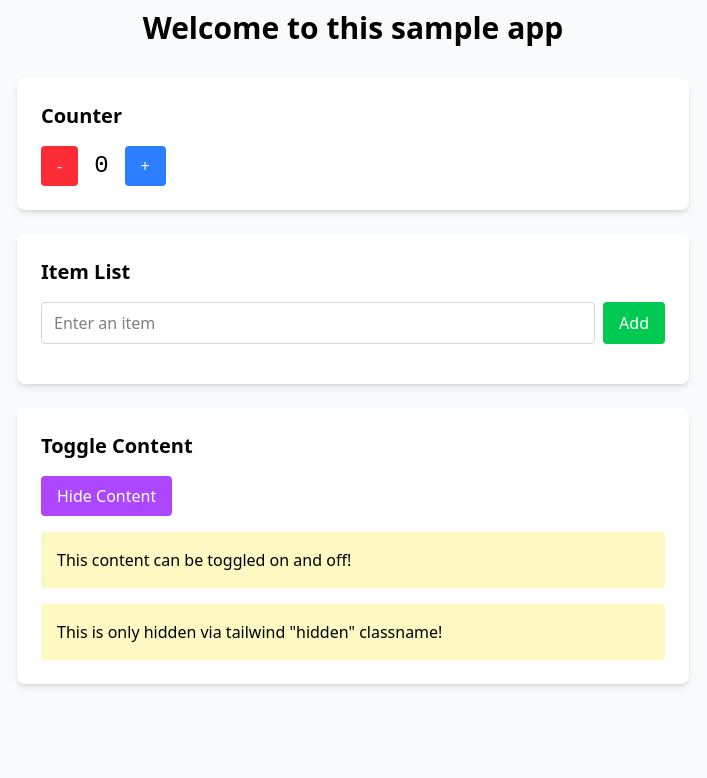
Test: Main app page (vitest) › lists › can interact with the lists
In the field with placeholder "Enter an item": (318, 323) [41, 302, 595, 344], type "cat"
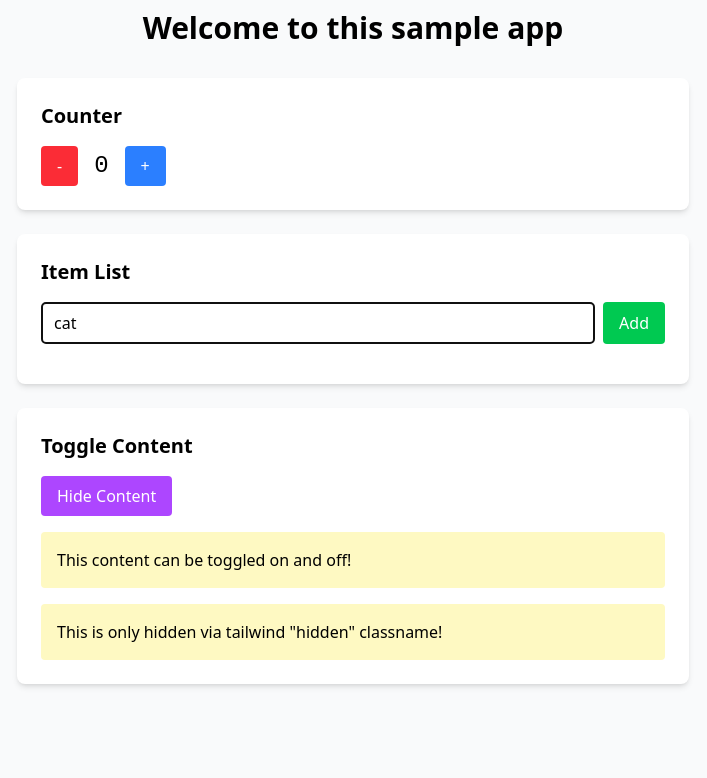
Click the button "Add": click(634, 323) [603, 302, 665, 344]
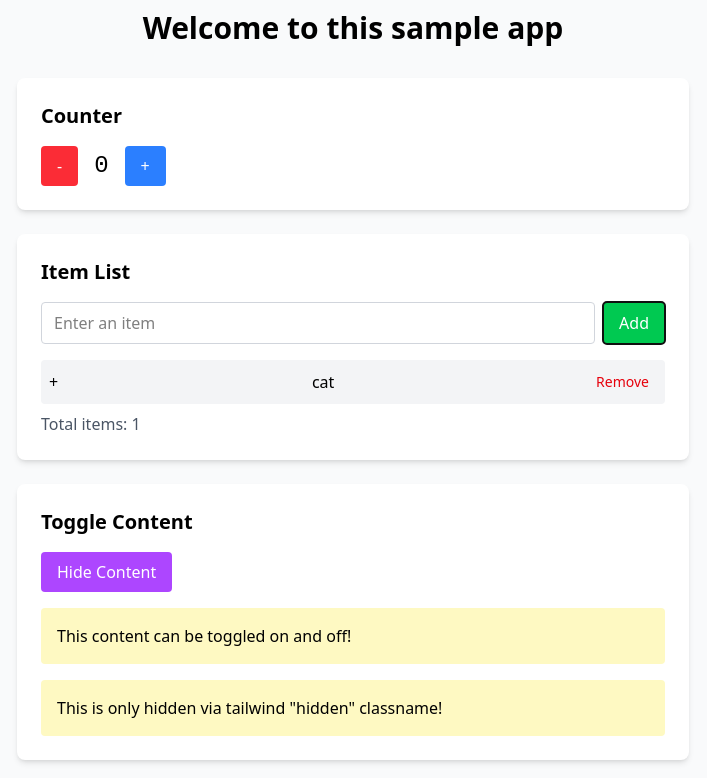
Result: the text "Total items" reads "Total items: 1" at [41, 413, 141, 435]
In the field with placeholder "Enter an item": (318, 323) [41, 302, 595, 344], type "dog"
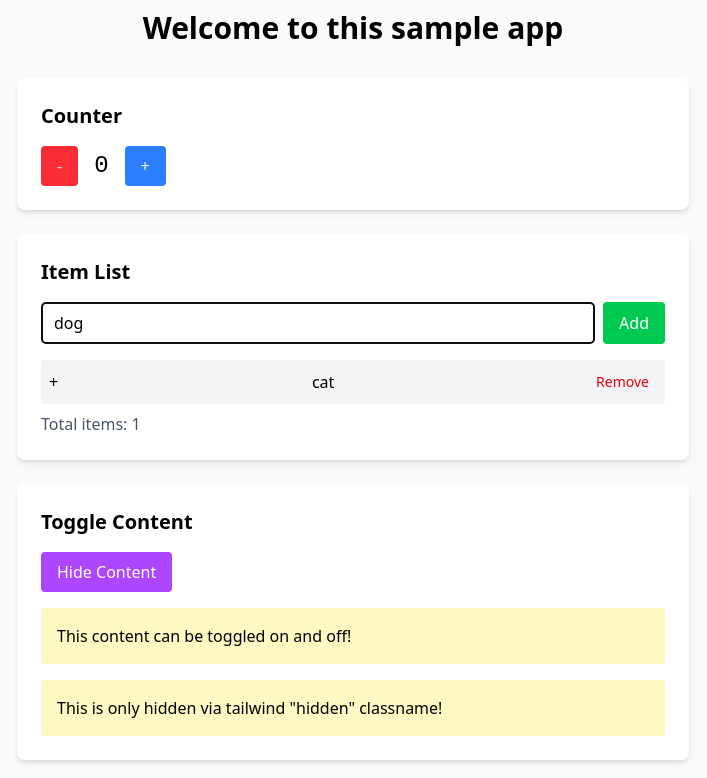
Click the button "Add": click(634, 323) [603, 302, 665, 344]
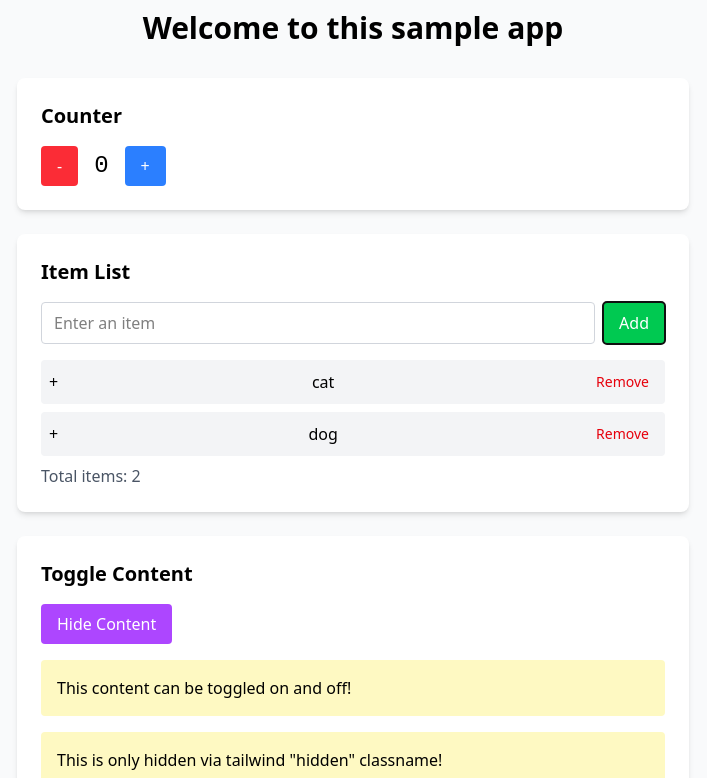
Result: the list item with test id "item-0" shows "cat" at [312, 371, 334, 393]
Result: the button "Remove" in the row of "cat" is shown
Result: the text "Total items" reads "Total items: 2" at [41, 465, 141, 487]
Click the button "Remove" in the row of "cat": click(623, 382) [588, 368, 657, 396]
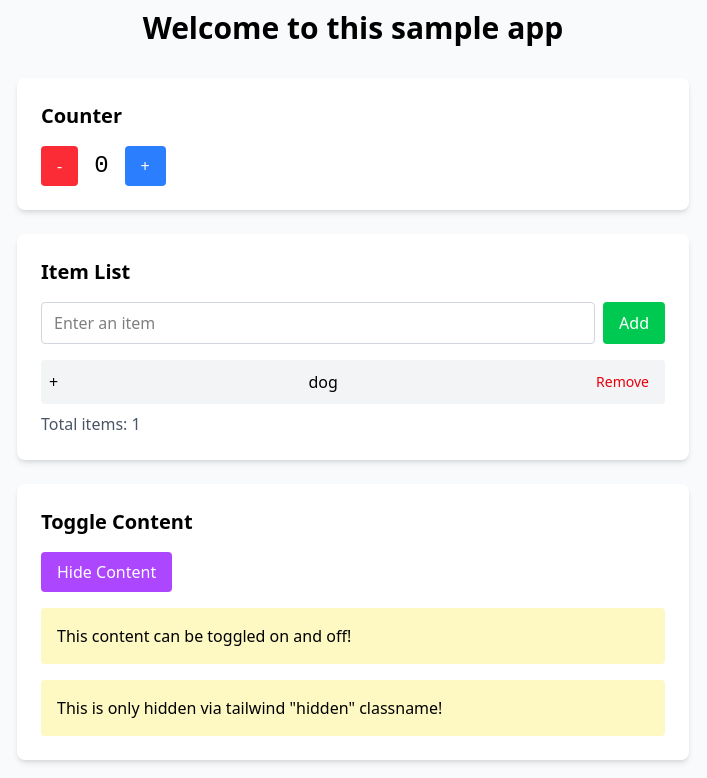
Result: the text "cat" is gone
